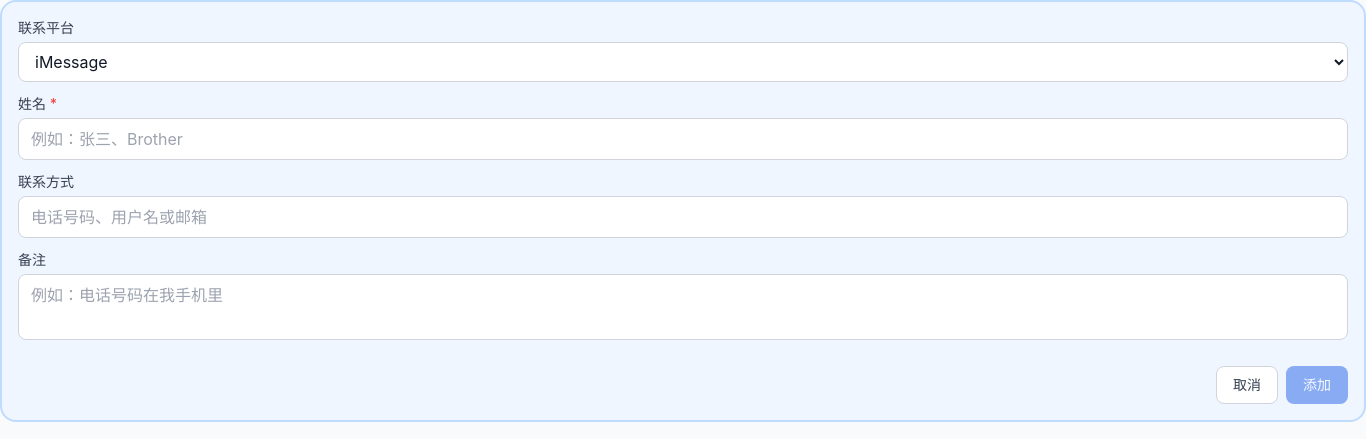
it: ContactBubbleForm › Form Submission › should enable submit button when name is provided
Type "Test" into the field with test id "contact-name-input".
click(683, 139); type("Test")  # box 18,118 -> 1348,160
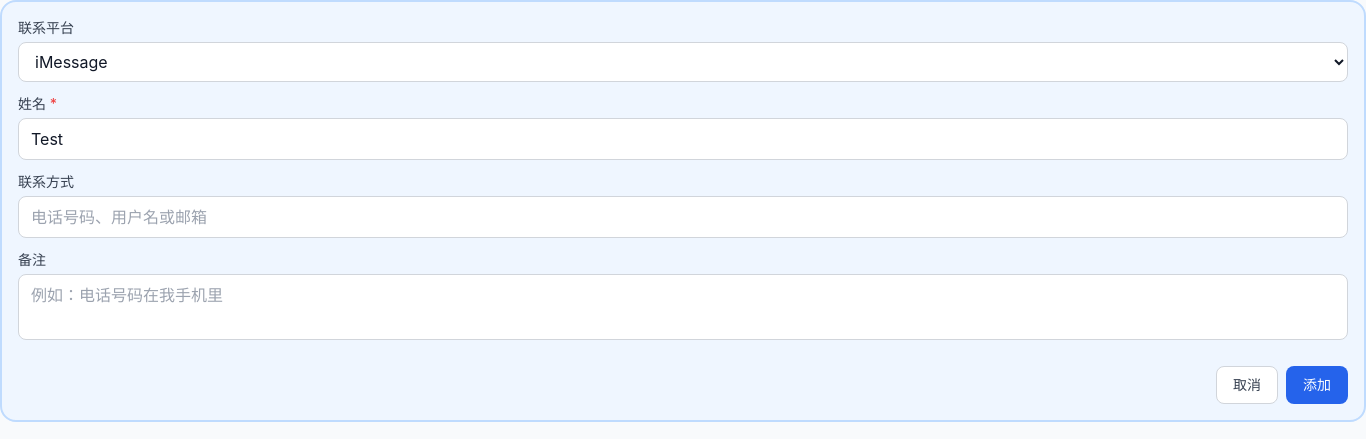
Result: the button with test id "contact-submit-button" is enabled at 1286,366 -> 1348,404
